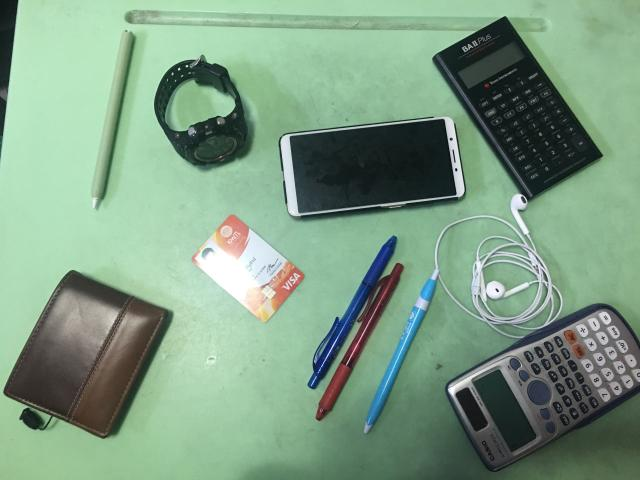Mobile phone: (279, 118, 465, 218)
Pen: (316, 264, 404, 420), (308, 236, 396, 389), (364, 269, 439, 434)
Wallet: (4, 270, 166, 438)
Watch: (154, 56, 248, 165)
wire: (435, 194, 562, 339)
